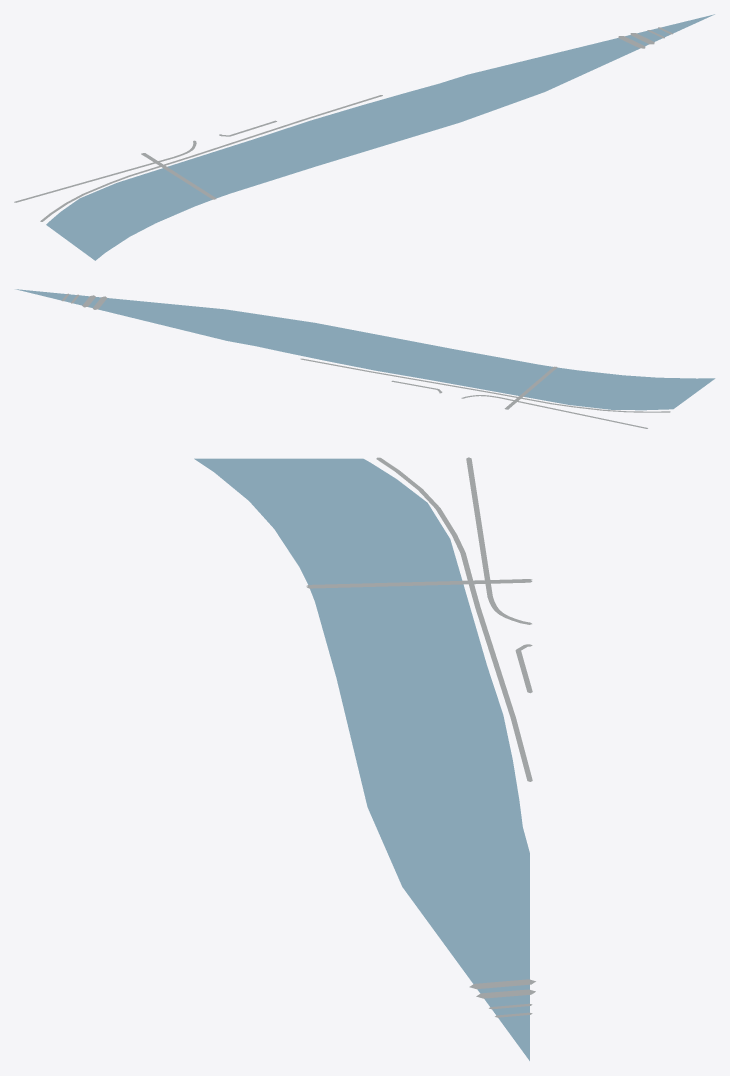
File: 4_-3-known-fine.glb
The picture shows the model from 3 angles, top to bottom: view 1: azimuth 30°, elevation 25°; view 2: azimuth 150°, elevation 25°; view 3: azimuth 270°, elevation 25°; orthographic projection. The views are drawn at different scales.
Bounding box in the file's own units: 780 × 0.1 × 187.
